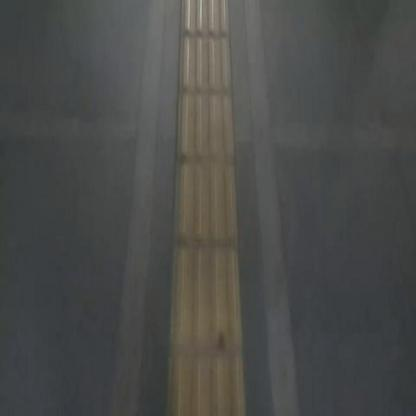podotacti: (172, 3, 246, 414)
